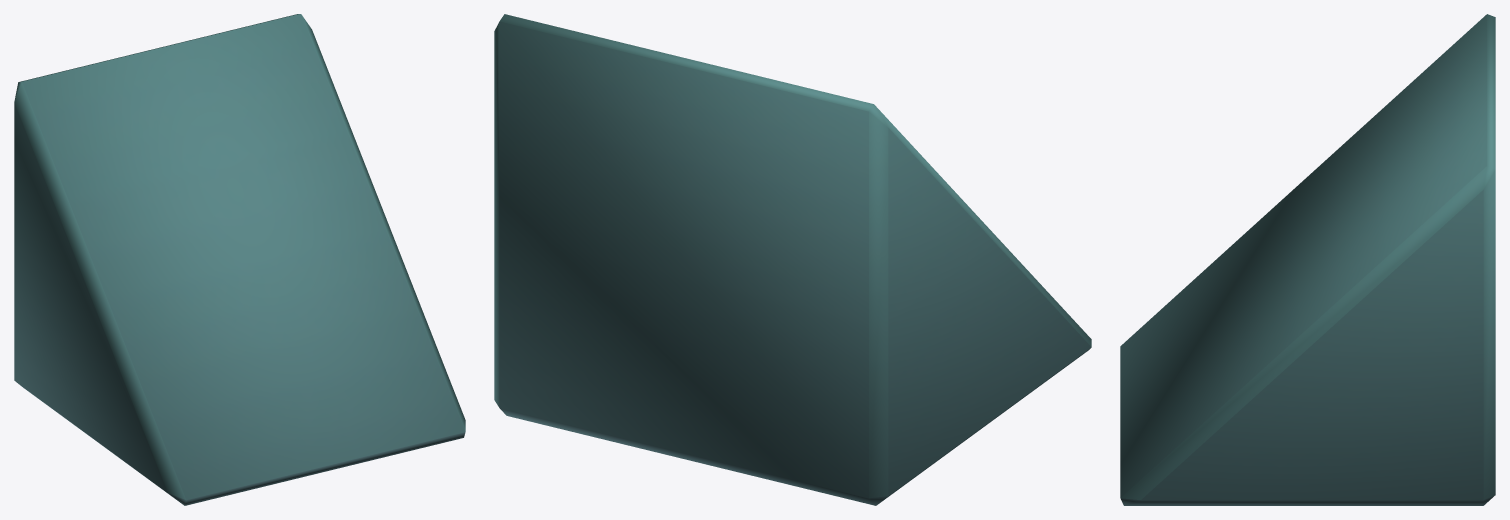
File: ramp_straight_hue_1.fbx
The picture shows the model from 3 angles, left to right: view 1: azimuth 30°, elevation 25°; view 2: azimuth 150°, elevation 25°; view 3: azimuth 270°, elevation 25°; orthographic projection. The views are drawn at different scales.
Parts seen in each view (by area): view 1: ramp_straight_hue_1; view 2: ramp_straight_hue_1; view 3: ramp_straight_hue_1.
Part boxes in pixels (x1,y1,x2,y2): ramp_straight_hue_1: (14, 14, 465, 505); ramp_straight_hue_1: (494, 14, 1091, 505); ramp_straight_hue_1: (1120, 14, 1495, 505).
Size of the model in its own units: 100 by 97.79 by 97.79.
